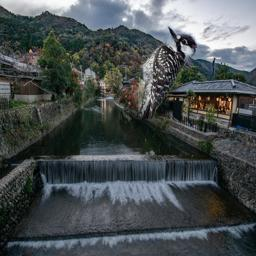Woodpecker: (121, 23, 198, 119)
